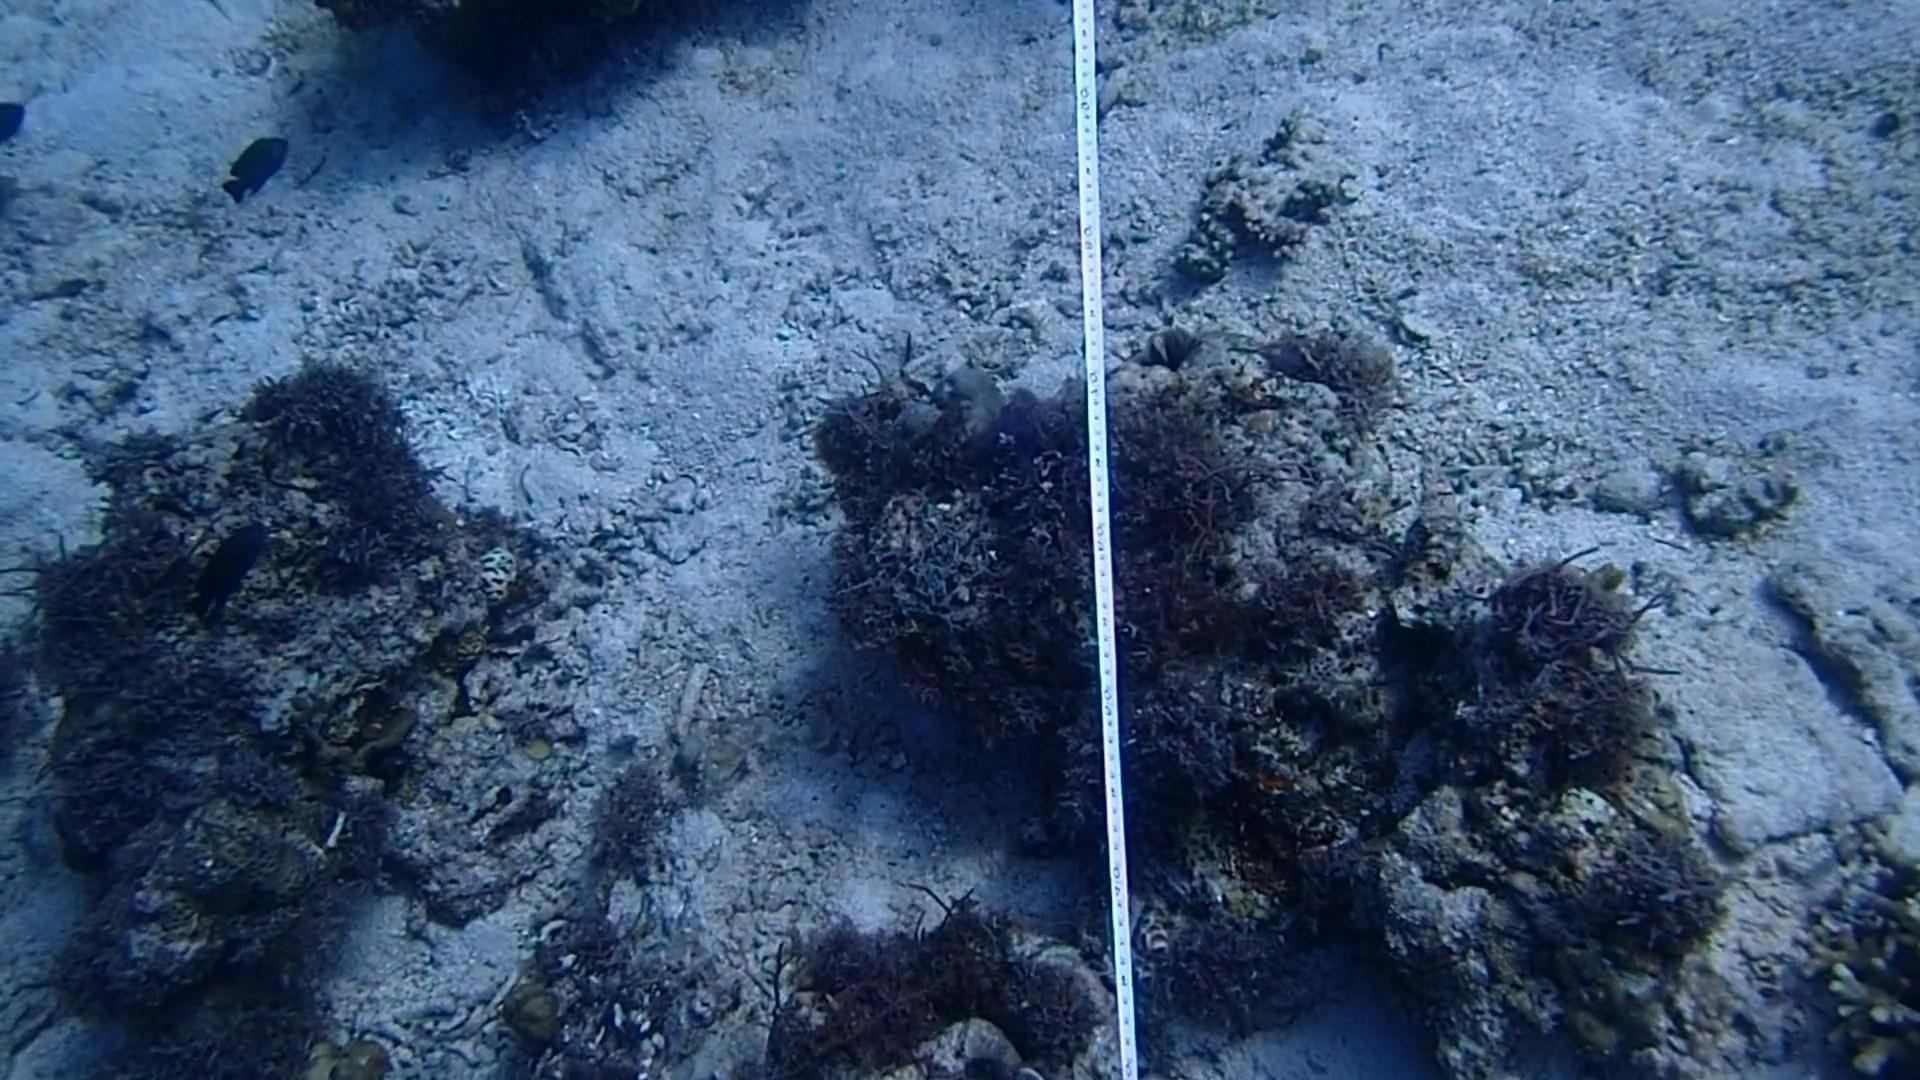Dark Fish: (187, 500, 274, 638), (224, 108, 313, 208)
